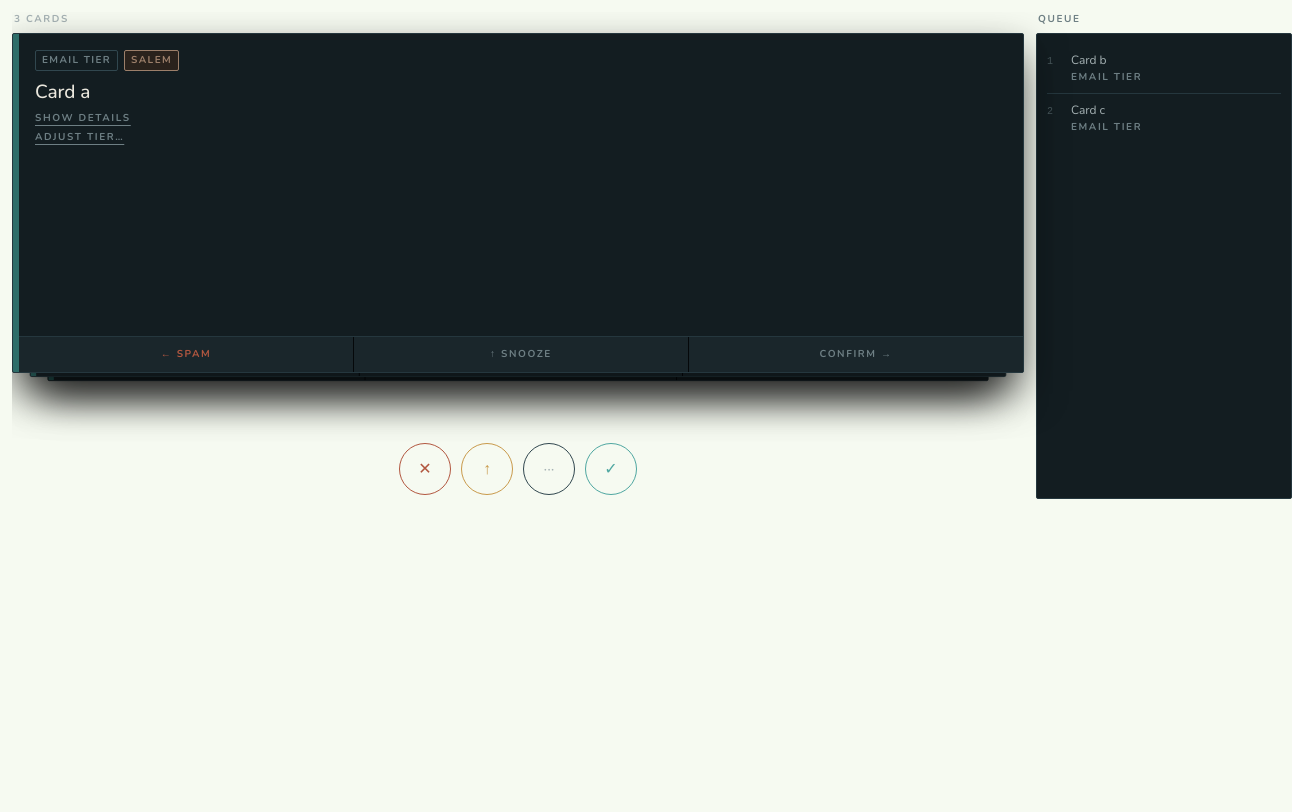
Scenario: the DOM the operator actually sees › a burst renders one row per refused card, not one line total
Step 1. Click the button with test id "deck-btn-affirm" → (611, 469), box [585,443,637,495]
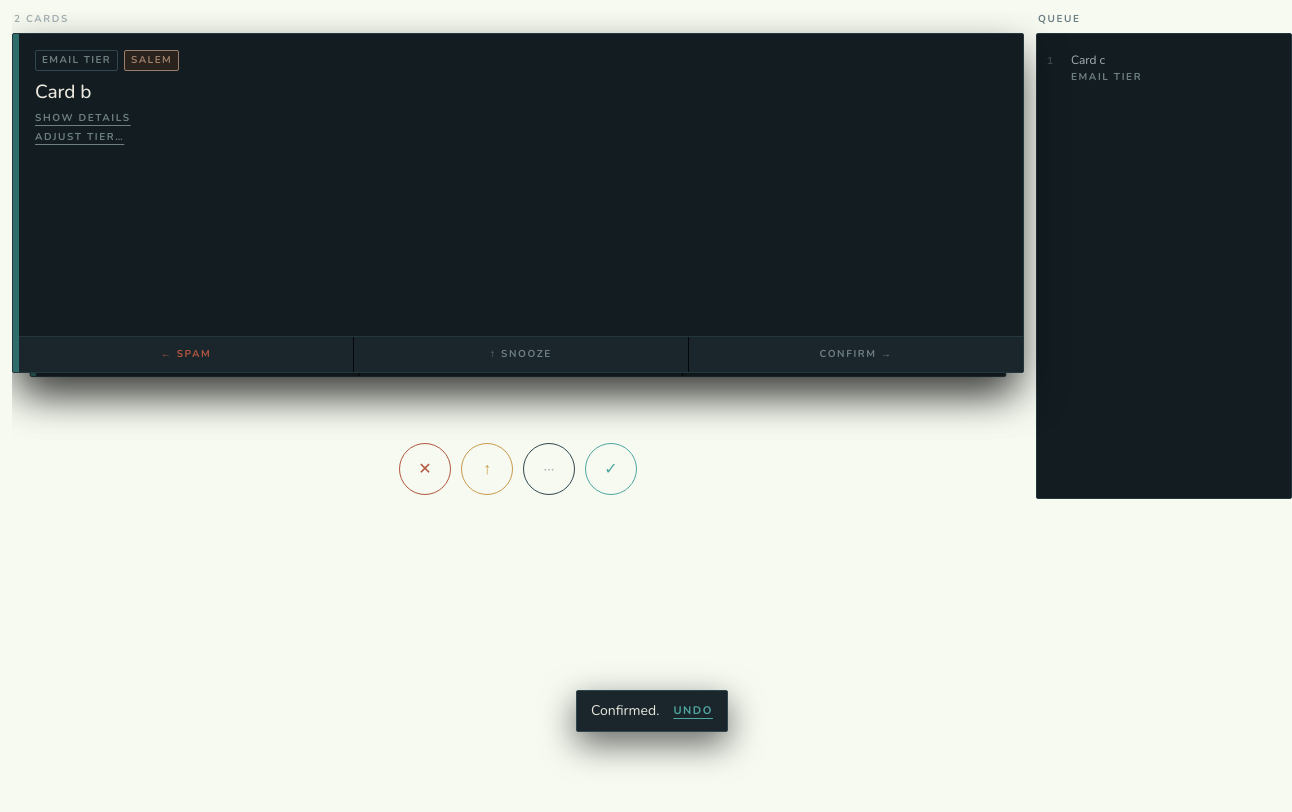
Step 2. Click the button with test id "deck-btn-affirm" → (611, 469), box [585,443,637,495]
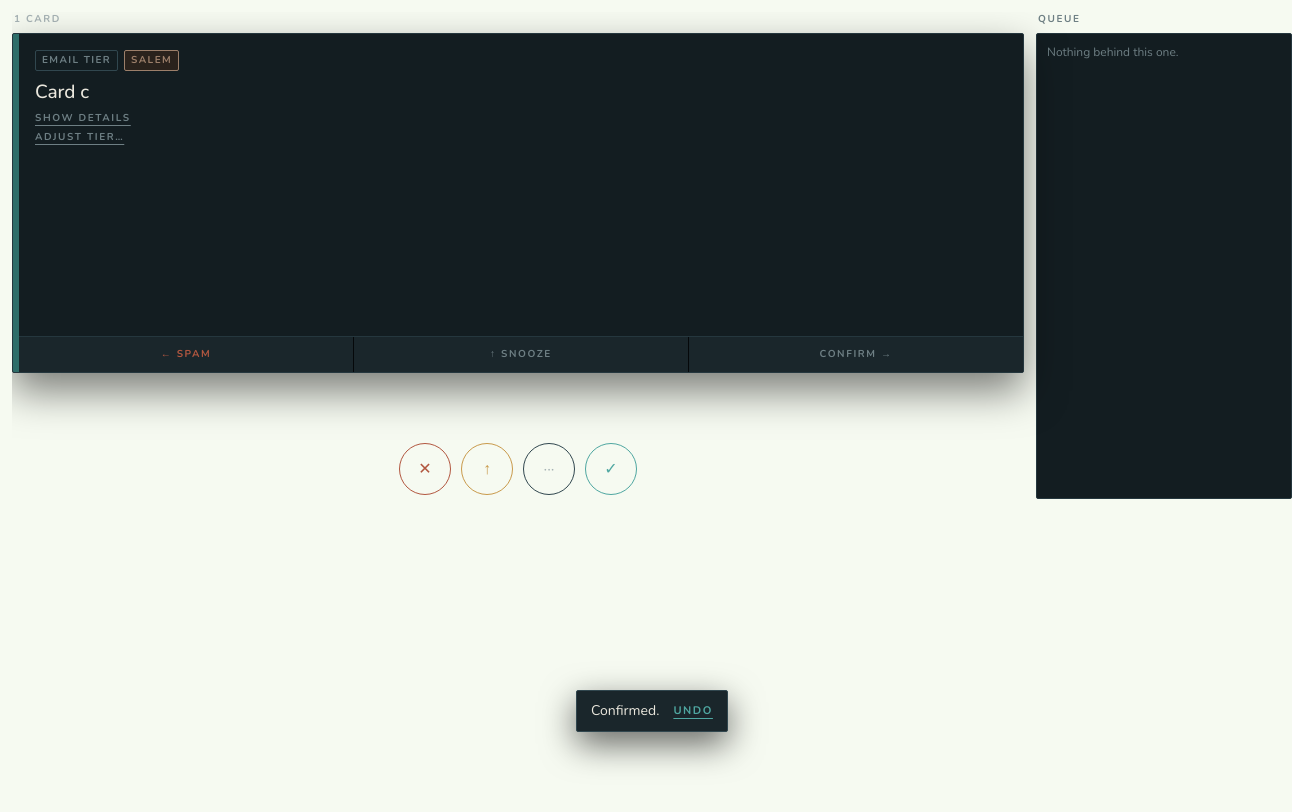
Step 3. Click the button with test id "deck-btn-affirm" → (611, 469), box [585,443,637,495]
Wait 6000 ms
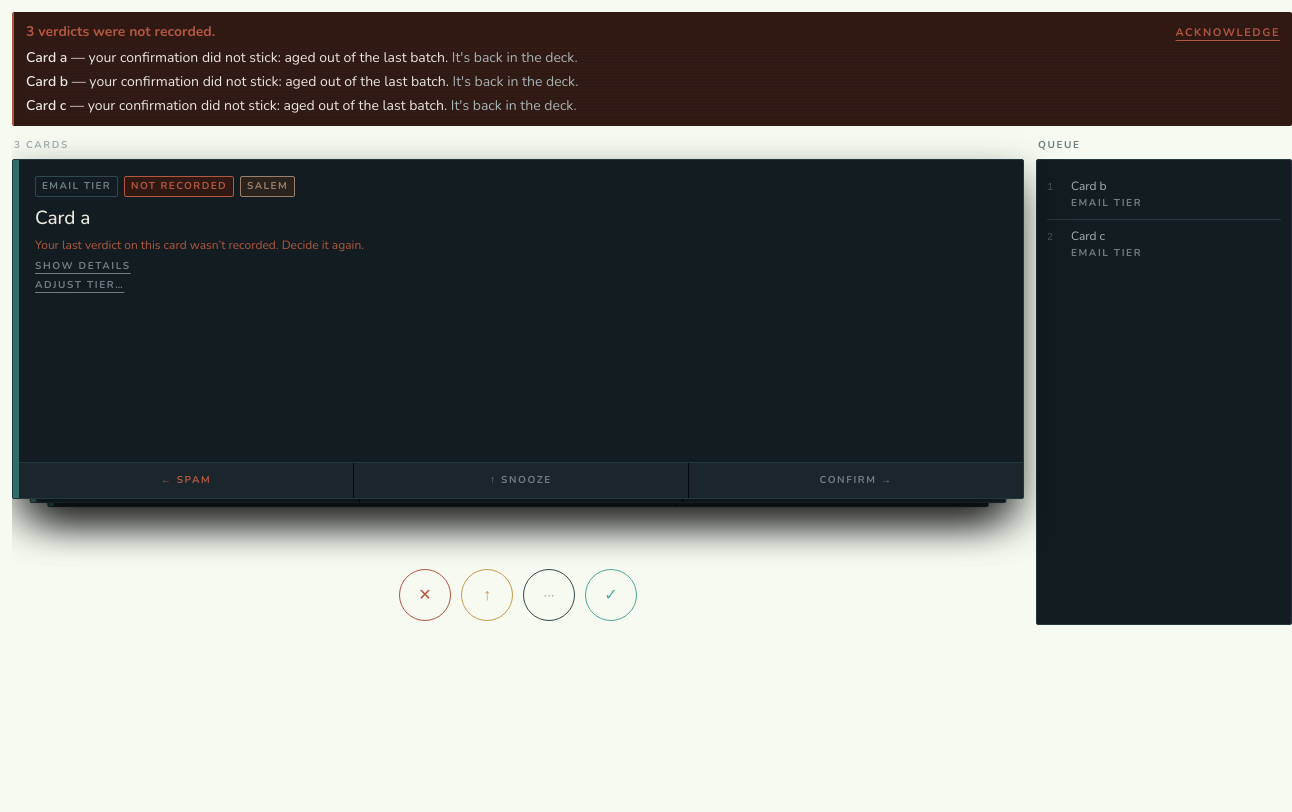
expect the number of list items with test id "deck-unrecorded-row" is 3: met, box [26,48,578,67]; [26,72,578,91]; [26,96,577,115]
expect the message with test id "deck-unrecorded" shows "3 verdicts were not recorded.": met, box [26,22,215,41]
